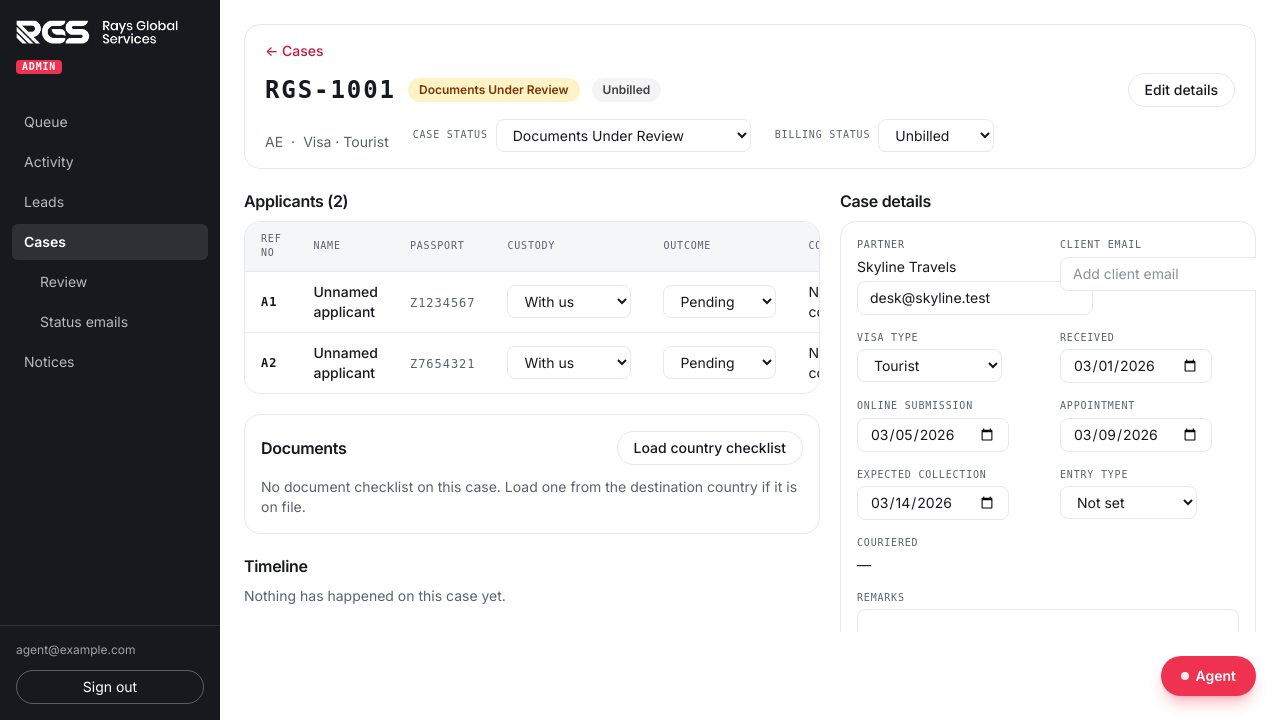
Scenario: CasePage › offers Edit details to a write role and opens the Edit case drawer
The width and height of the screenshot is (1280, 720).
Click the button "Edit details". click: (1181, 90)
box: x1=1128 y1=73 x2=1235 y2=107
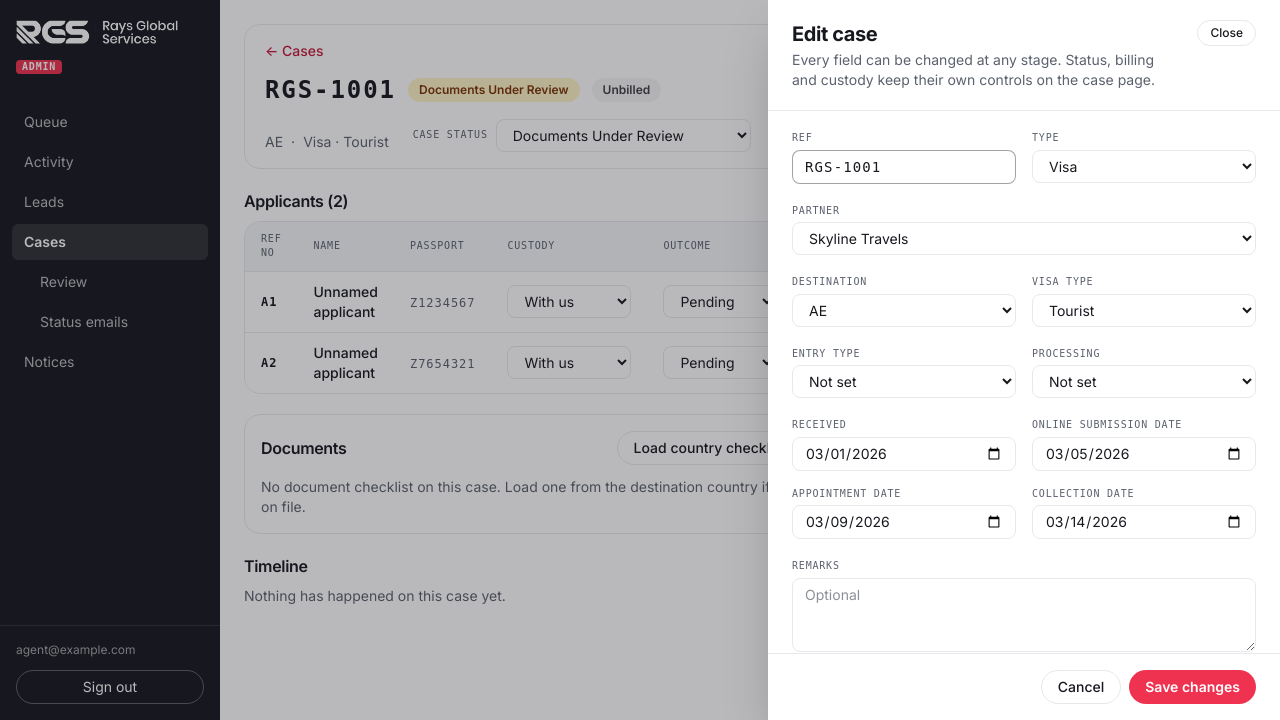
Expected: the dialog "Edit case" is shown, x1=768 y1=0 x2=1279 y2=719
